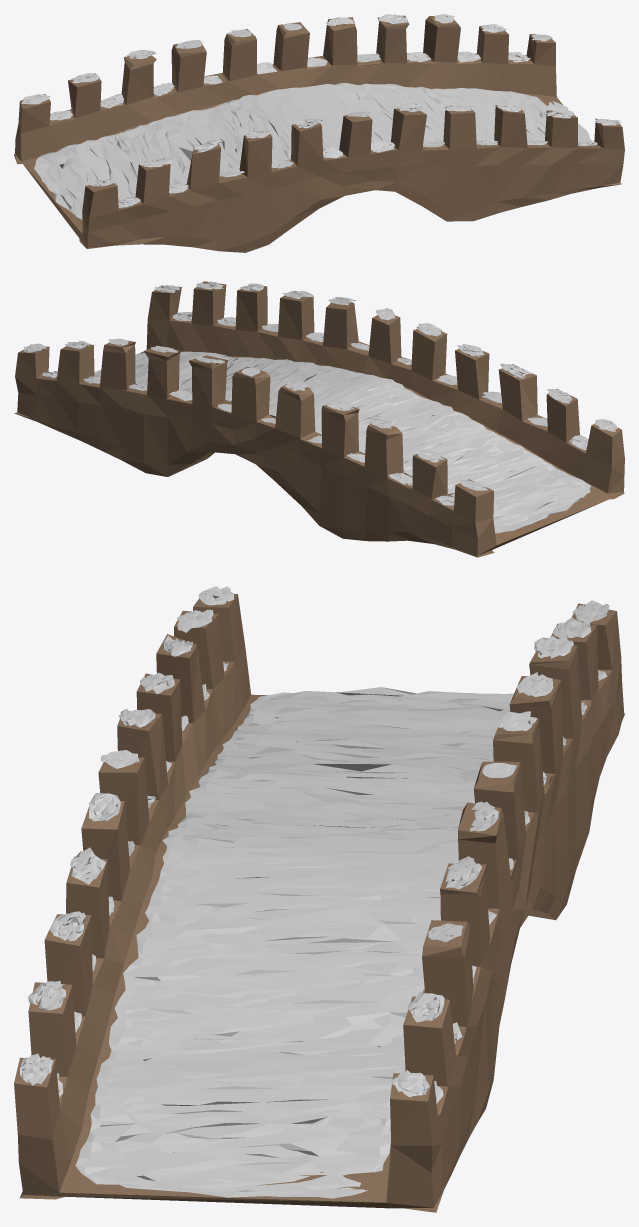
The model's file is bridge.fbx.
3 renders of one model, top to bottom at view 1: azimuth 30°, elevation 25°; view 2: azimuth 150°, elevation 25°; view 3: azimuth 270°, elevation 25°, orthographic. The views are drawn at different scales.
Visible parts, largest first — view 1: Cube, Cube.001; view 2: Cube, Cube.001; view 3: Cube.001, Cube.
Part boxes in pixels (x1,y1,x2,y2): Cube: (14, 15, 624, 252); Cube.001: (21, 14, 621, 220); Cube: (14, 281, 624, 557); Cube.001: (23, 281, 617, 533); Cube.001: (20, 586, 609, 1198); Cube: (14, 594, 624, 1212).
Bounding box in the file's own units: 392 × 97.17 × 205.
